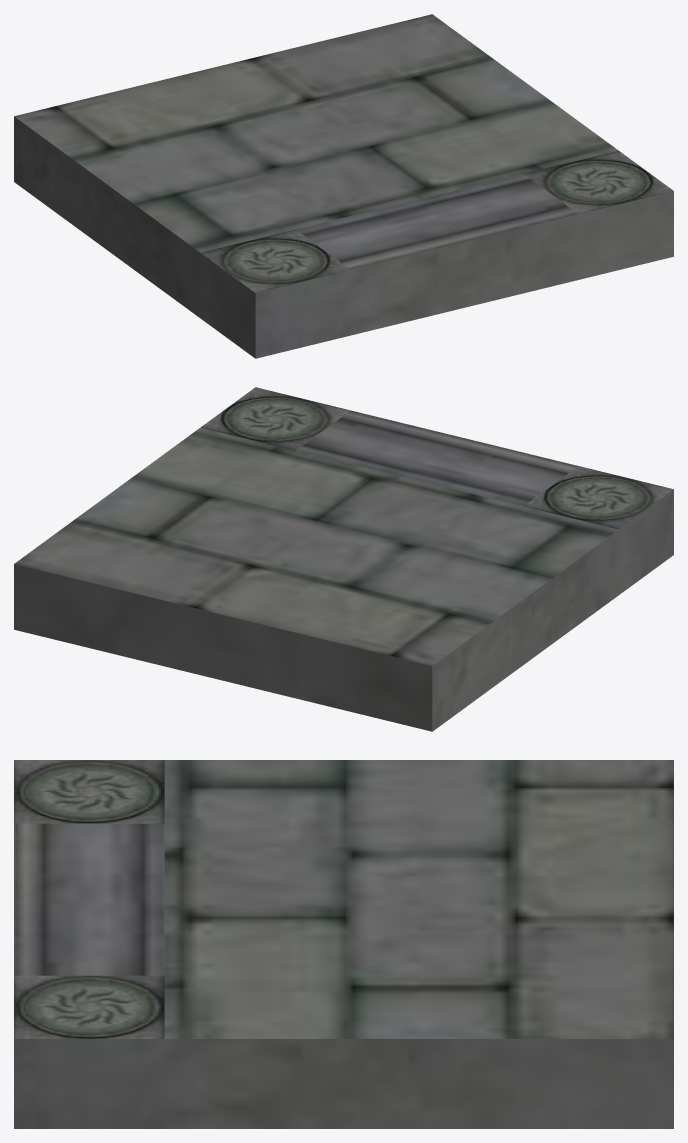
The model's file is sd_floor_small_trim_b_01.glb.
3 renders of one model, top to bottom at view 1: azimuth 30°, elevation 25°; view 2: azimuth 150°, elevation 25°; view 3: azimuth 270°, elevation 25°, orthographic. The views are drawn at different scales.
Parts seen in each view (by area): view 1: floor_small_trim_B_01; view 2: floor_small_trim_B_01; view 3: floor_small_trim_B_01.
Boxes of the visible parts, x1=… form: floor_small_trim_B_01: x1=14, y1=14, x2=673, y2=358; floor_small_trim_B_01: x1=14, y1=387, x2=673, y2=731; floor_small_trim_B_01: x1=14, y1=760, x2=673, y2=1128.
Bounding box in the file's own units: 2 × 0.3001 × 2.
1 material, 1 textured.
